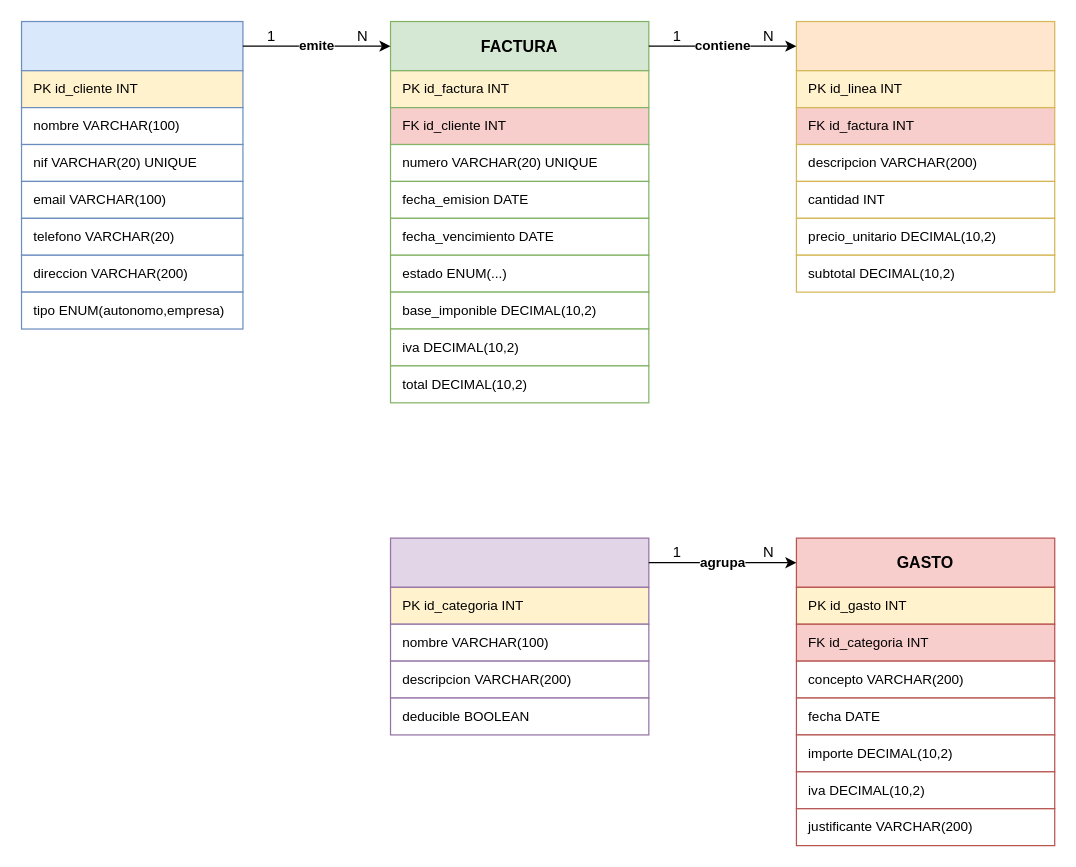
This 1076x867 diagram has some shape labels left out. Each missing label, with the box of its shape:
CATEGORIA: (389, 537, 649, 587)
CLIENTE: (20, 20, 243, 71)
LINEA_FACTURA: (795, 20, 1055, 71)
